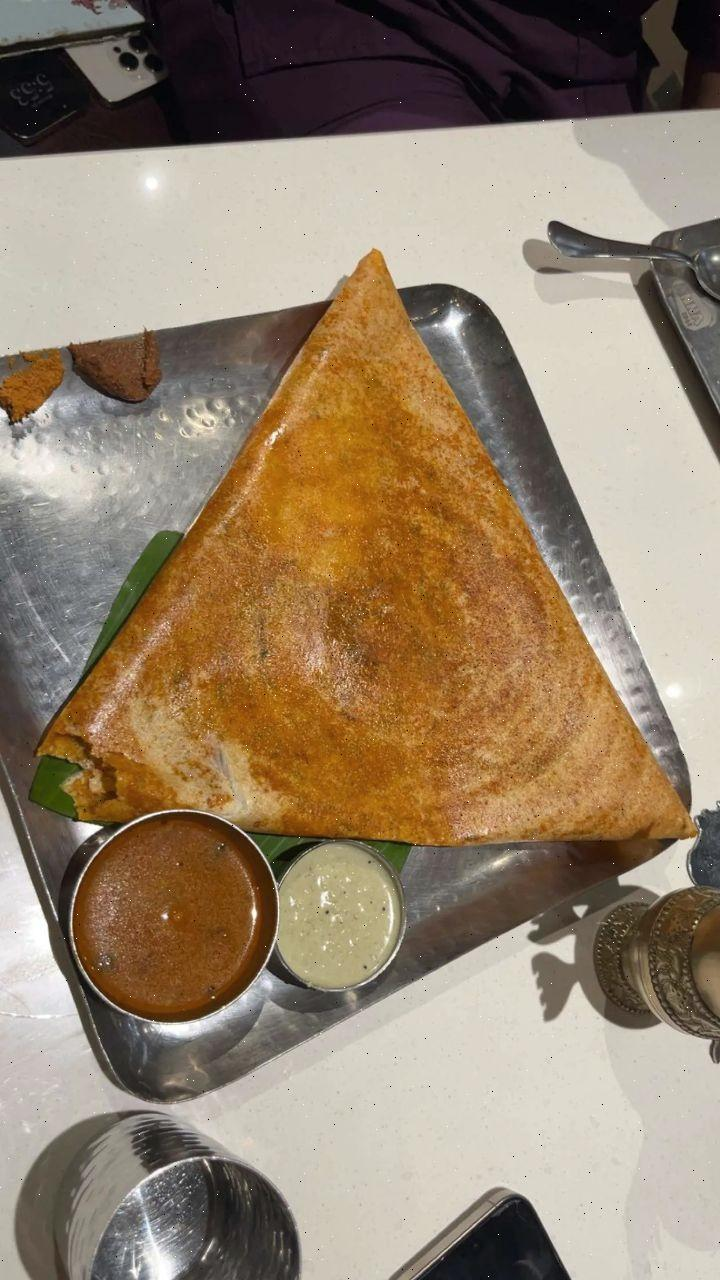dosa: (88, 248, 682, 875)
